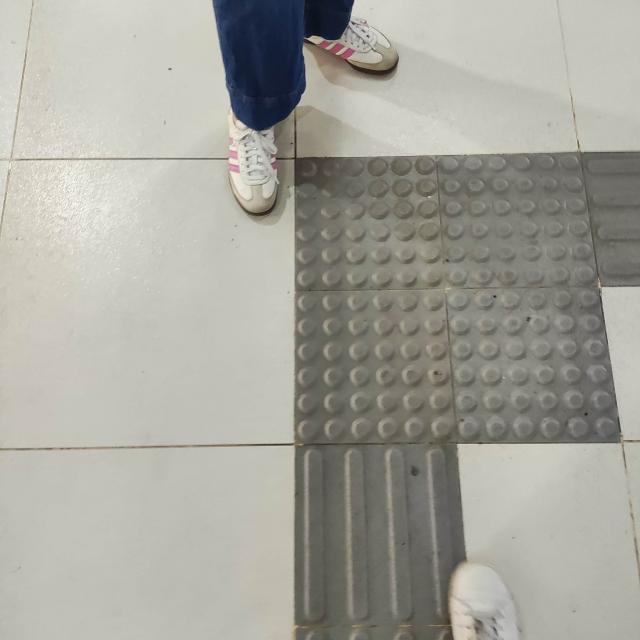kanan: (223, 125, 640, 530)
